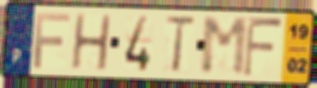4: (122, 14, 153, 74)
F: (242, 14, 285, 80), (31, 12, 72, 70)
H: (68, 13, 113, 73)
M: (200, 16, 249, 78)
T: (163, 15, 197, 75)
